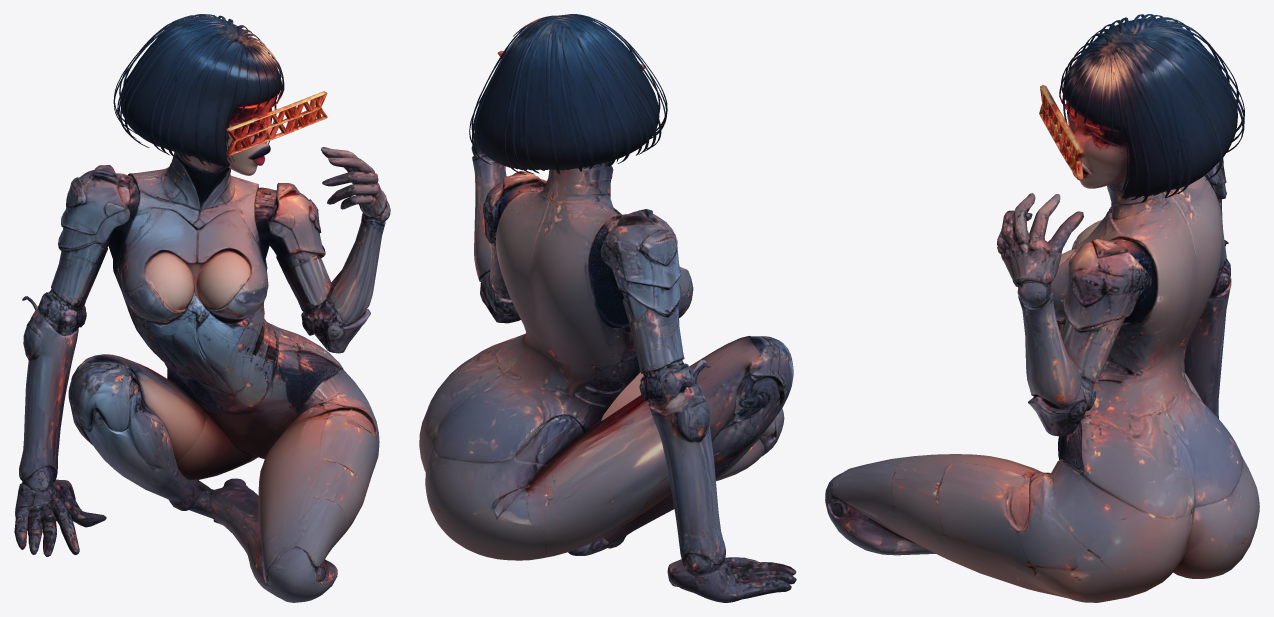
The picture shows the model from 3 angles, left to right: view 1: azimuth 30°, elevation 25°; view 2: azimuth 150°, elevation 25°; view 3: azimuth 270°, elevation 25°; orthographic projection. The views are drawn at different scales.
Visible parts, largest first — view 1: singer; view 2: singer; view 3: singer.
Boxes of the visible parts, <box> form: singer: <box>14,14,390,602</box>; singer: <box>419,14,796,602</box>; singer: <box>825,14,1259,602</box>.
Bounding box in the file's own units: 0.6986 × 0.9553 × 0.7034.
1 material, 1 textured.
